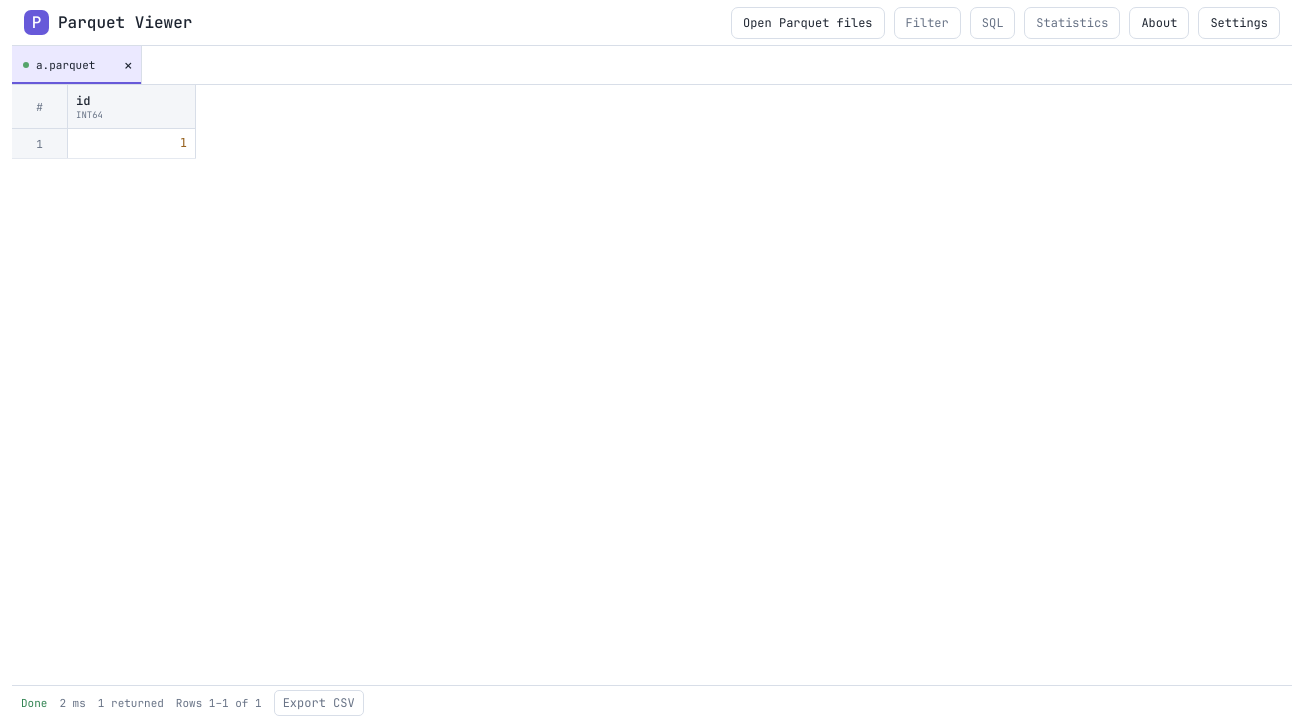
it: exports the automatic preview, confirms overwrite, and renders terminal export progress
Expected: the cell "1" is shown, left=68, top=129, right=196, bottom=158
Click the button "Export CSV". click: [319, 703]
box: left=274, top=690, right=364, bottom=716
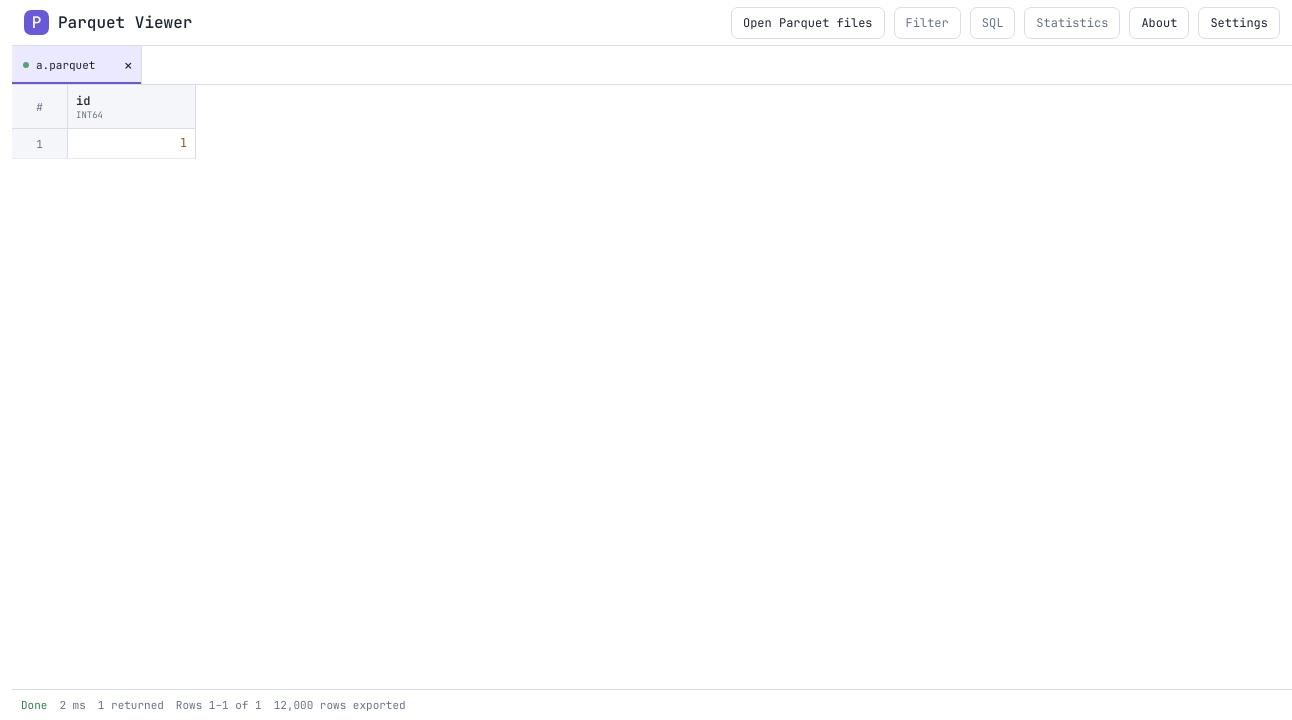
Expected: the message named "export status" reads "12,000 rows exported", left=274, top=698, right=406, bottom=712
